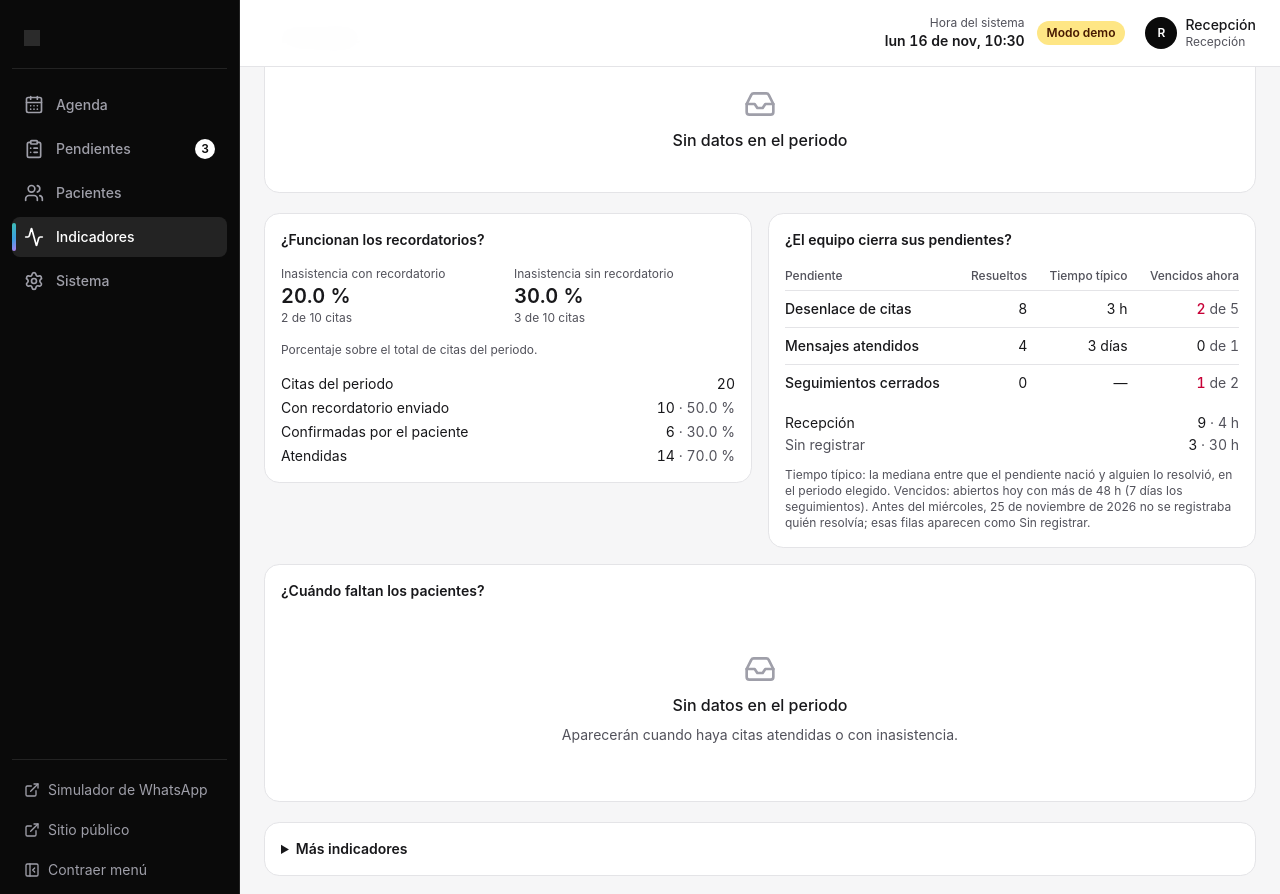
Test: indicadores › dentro de Más indicadores muestra los planes entregados y los que quedaron sin siguiente paso
(page scrolled)
Click the heading "Más indicadores" at (352, 848), box [296, 840, 407, 857]
(page scrolled)
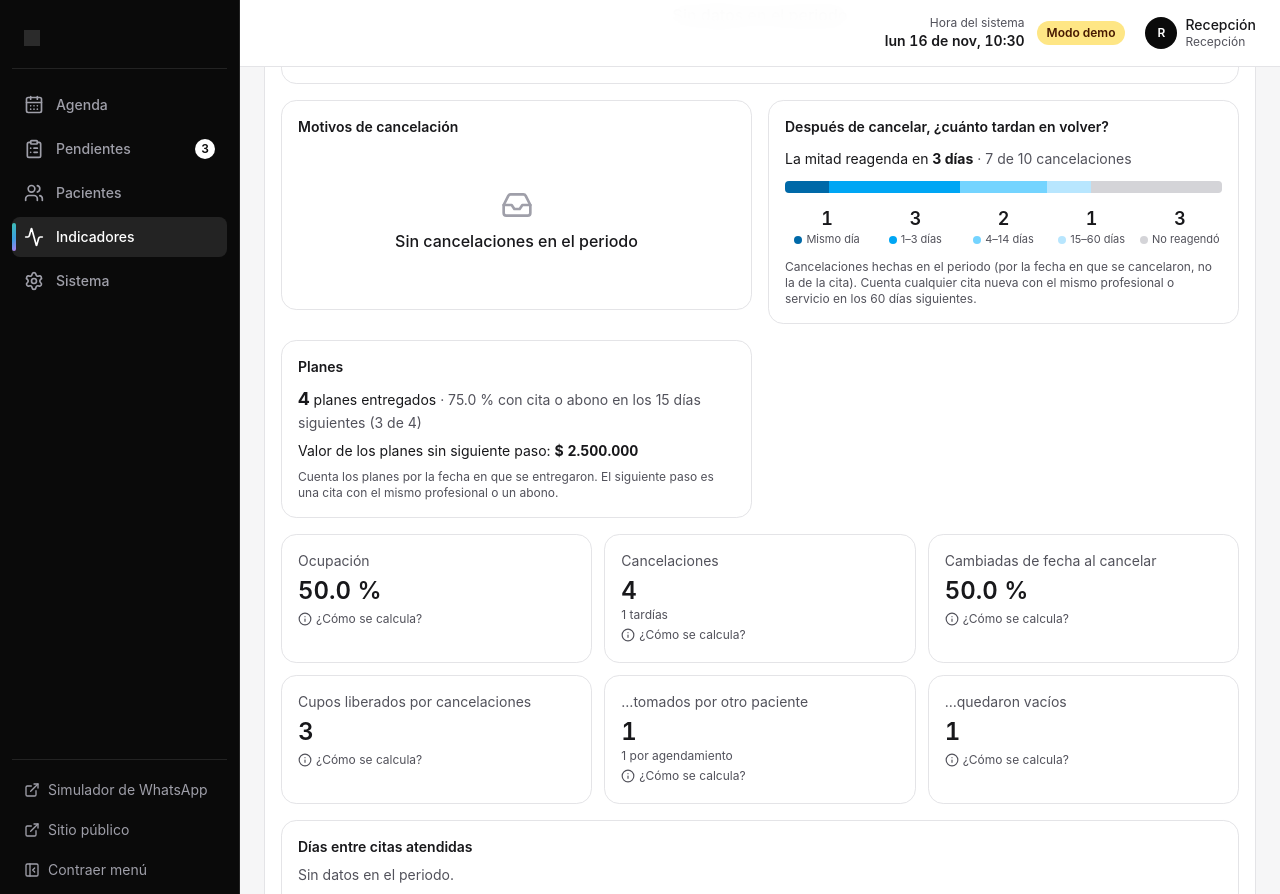
Expected: the text "4" next to "planes entregados" is shown, [298, 388, 310, 408]
Expected: the text "· 75.0 % con cita o abono en los 15 días siguientes (3 de 4)" is shown, [298, 390, 701, 430]
Expected: the text "Valor de los planes sin siguiente paso: $ 2.500.000" is shown, [298, 442, 638, 458]
